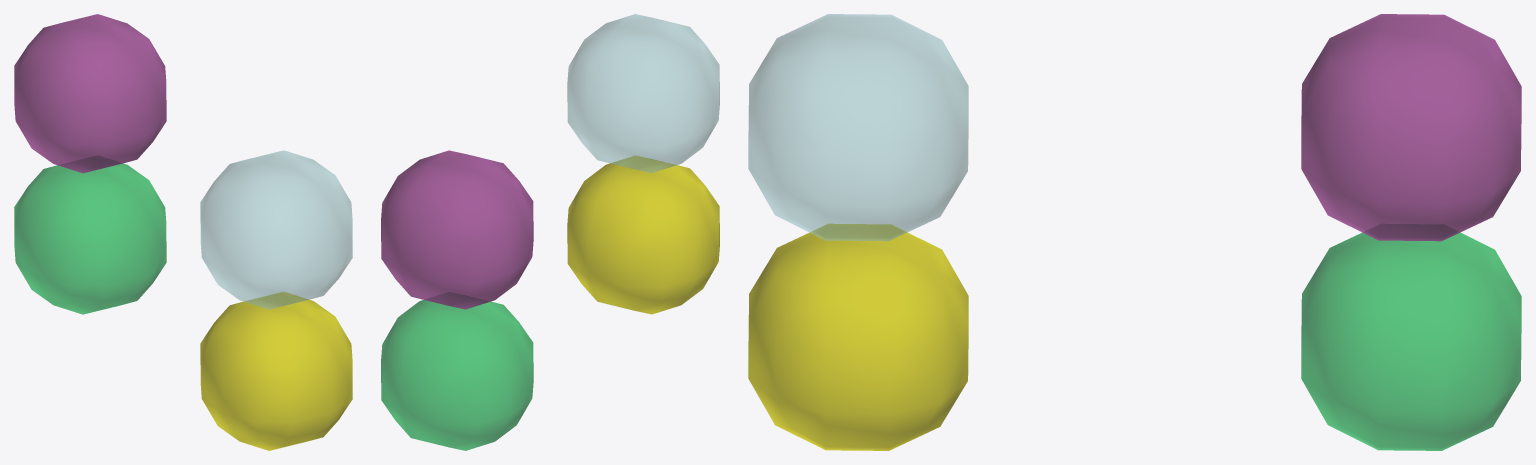
File: marbles.fbx
3 renders of one model, left to right at view 1: azimuth 30°, elevation 25°; view 2: azimuth 150°, elevation 25°; view 3: azimuth 270°, elevation 25°, orthographic. The views are drawn at different scales.
Visible parts, largest first — view 1: pCube30, pCube31, pCube20, pCube32; view 2: pCube30, pCube31, pCube20, pCube32; view 3: pCube30, pCube31, pCube20, pCube32.
Boxes of the visible parts, x1,y1,x2,y2 form: pCube30: (14, 14, 166, 173); pCube31: (200, 292, 352, 450); pCube20: (200, 150, 352, 309); pCube32: (14, 163, 166, 314); pCube30: (381, 150, 533, 309); pCube31: (567, 155, 719, 314); pCube20: (567, 14, 719, 172); pCube32: (381, 300, 533, 450); pCube30: (1301, 14, 1521, 241); pCube31: (748, 224, 968, 450); pCube20: (748, 14, 968, 241); pCube32: (1301, 232, 1521, 450).
Bounding box in the file's own units: 0.3183 × 0.6544 × 1.12.
Materials: 4 (1 with a texture image).
